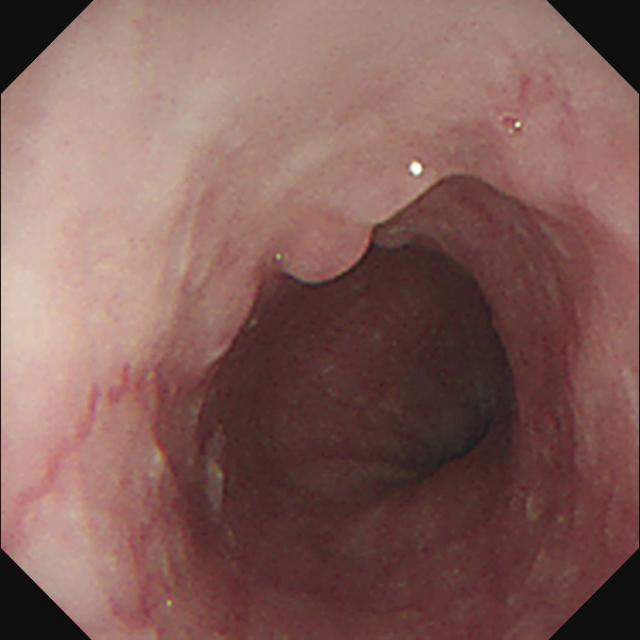A: (525, 307, 637, 510), (138, 489, 257, 636), (165, 244, 283, 391), (277, 203, 377, 289)
E: (413, 421, 489, 485)
J: (205, 426, 228, 513)
